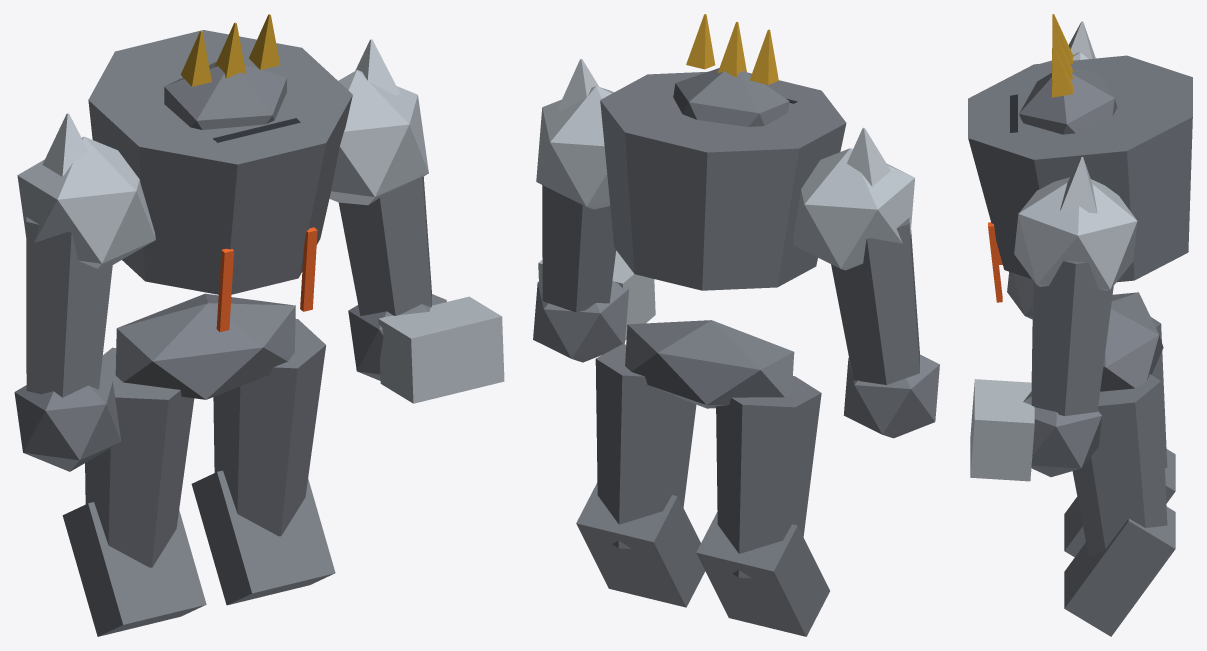
File: npcpose_colossus_attack_10.glb
The picture shows the model from 3 angles, left to right: view 1: azimuth 30°, elevation 25°; view 2: azimuth 150°, elevation 25°; view 3: azimuth 270°, elevation 25°; orthographic projection. The views are drawn at different scales.
Visible parts, largest first — view 1: npcpose; view 2: npcpose; view 3: npcpose.
Boxes of the visible parts, left/top/right/bottom form: npcpose: left=14, top=14, right=504, bottom=636; npcpose: left=533, top=14, right=939, bottom=636; npcpose: left=968, top=14, right=1192, bottom=636.
Size of the model in its own units: 2.3 by 3.08 by 1.12.
